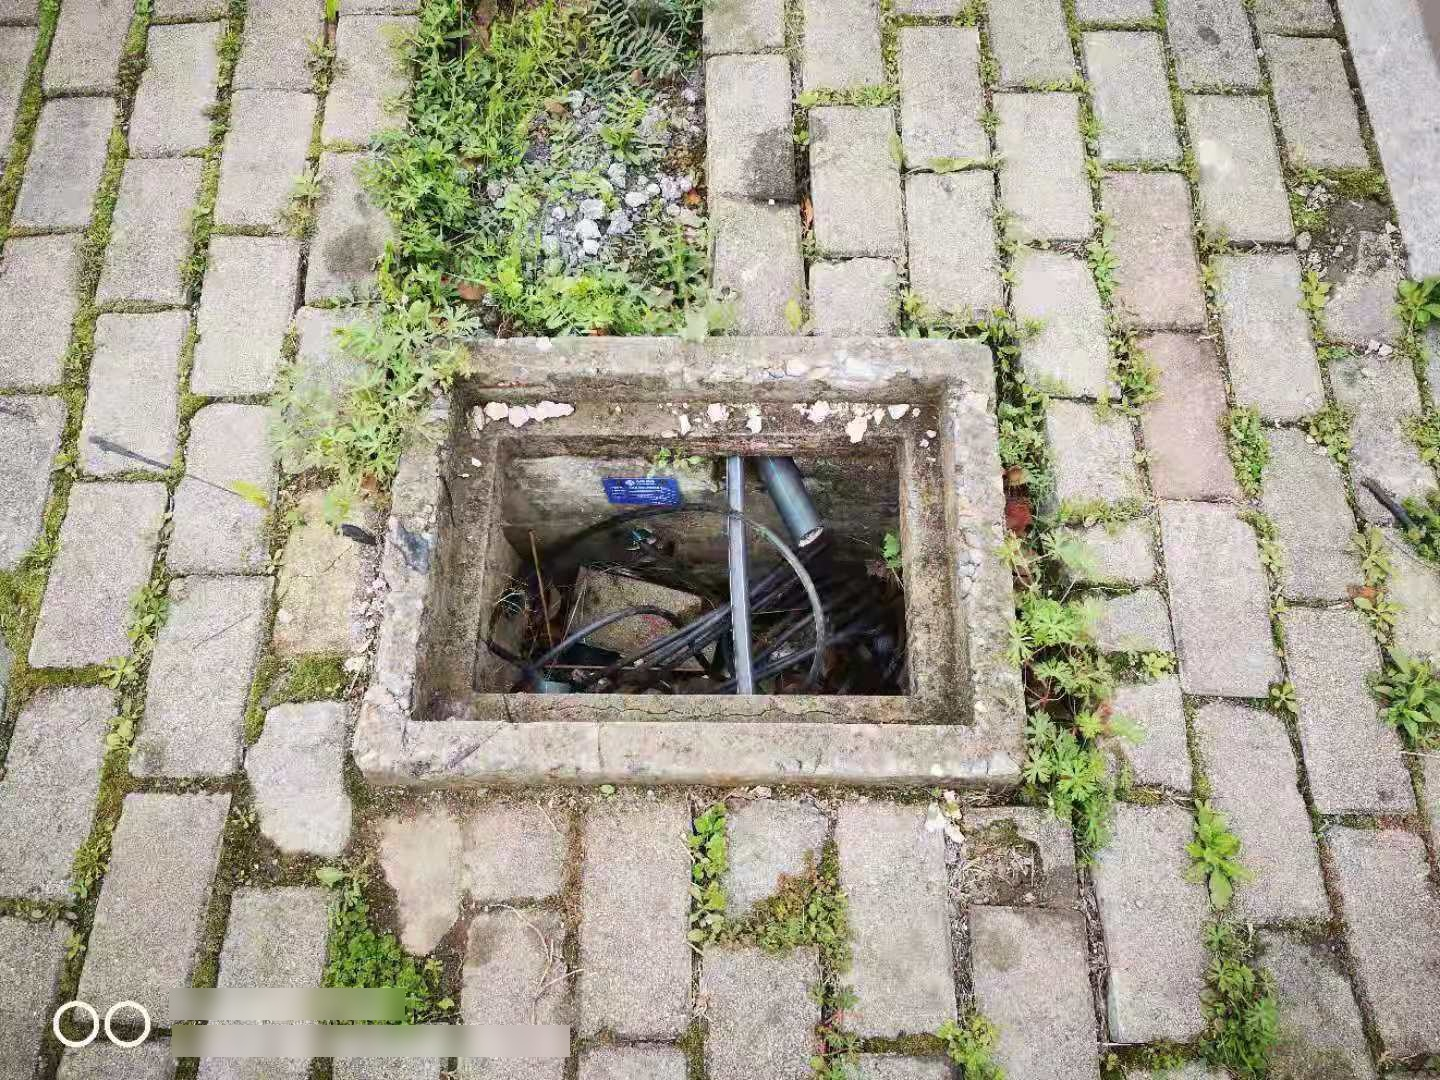lose: (356, 329, 1030, 784)
